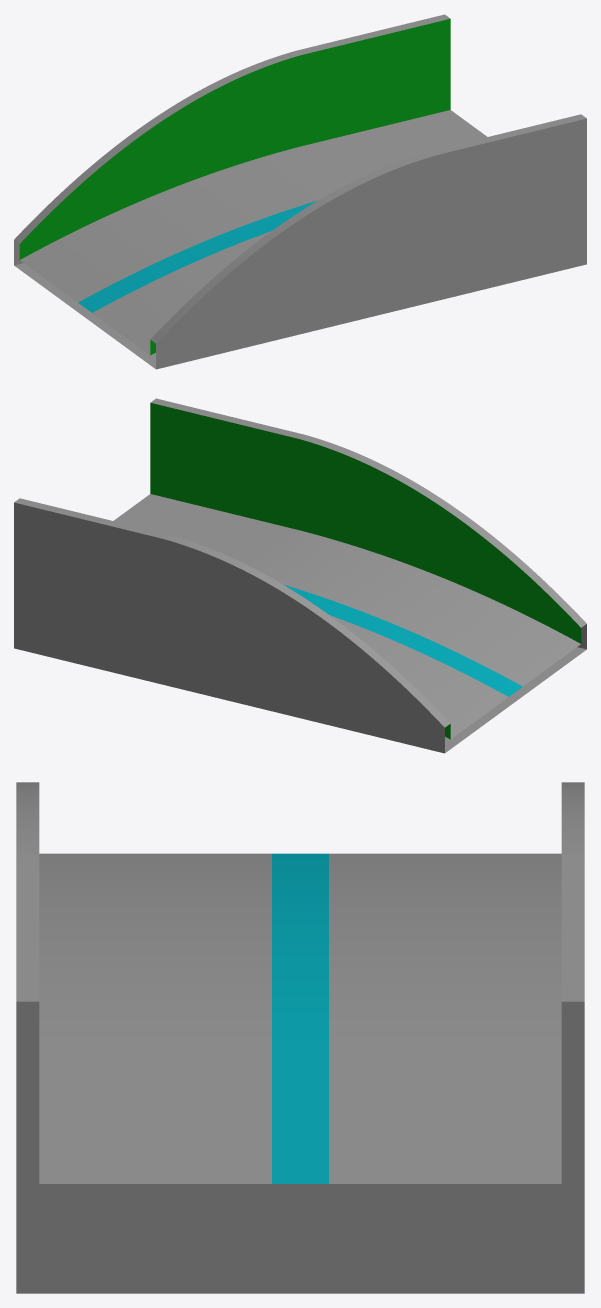
The model's file is mesh_road_bridge_half.FBX.
3 renders of one model, top to bottom at view 1: azimuth 30°, elevation 25°; view 2: azimuth 150°, elevation 25°; view 3: azimuth 270°, elevation 25°, orthographic. The views are drawn at different scales.
Parts seen in each view (by area): view 1: Box001; view 2: Box001; view 3: Box001.
Part boxes in pixels (x1,y1,x2,y2): Box001: (14,14,586,369); Box001: (14,398,586,753); Box001: (16,782,584,1293).
Size of the model in its own units: 70 by 22.65 by 40.
